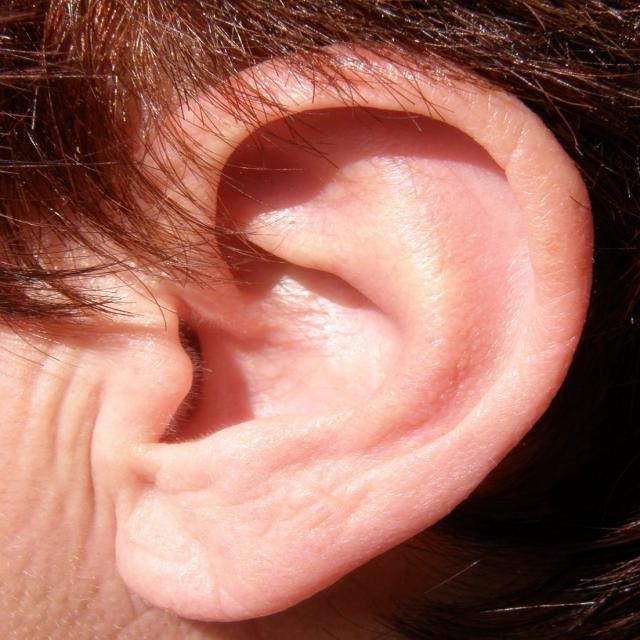earlobe: (116, 423, 330, 624)
wholeear: (115, 39, 596, 624)
